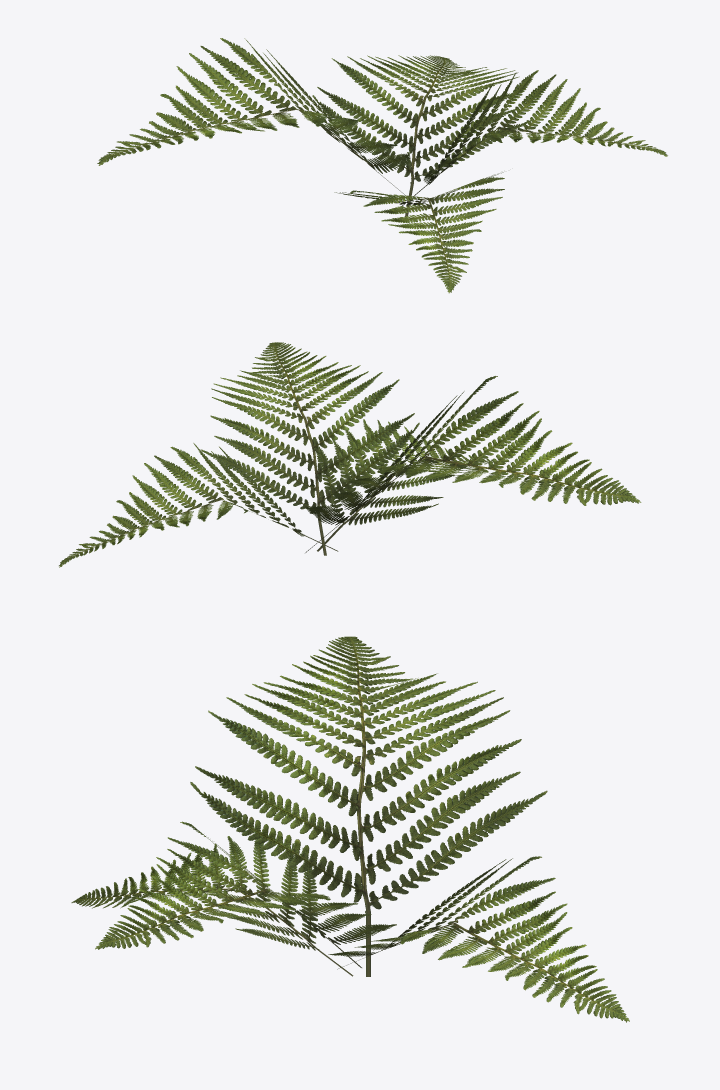
File: grass_mesh_10.fbx
The picture shows the model from 3 angles, top to bottom: view 1: azimuth 30°, elevation 25°; view 2: azimuth 150°, elevation 25°; view 3: azimuth 270°, elevation 25°; orthographic projection. The views are drawn at different scales.
Visible parts, largest first — view 1: Polygon; view 2: Polygon; view 3: Polygon.
Boxes of the visible parts, x1,y1,x2,y2 form: Polygon: (97,38,667,293); Polygon: (59,342,641,567); Polygon: (71,636,629,1022).
Size of the model in its own units: 214 by 64.75 by 192.
Materials: 1 (1 with a texture image).
